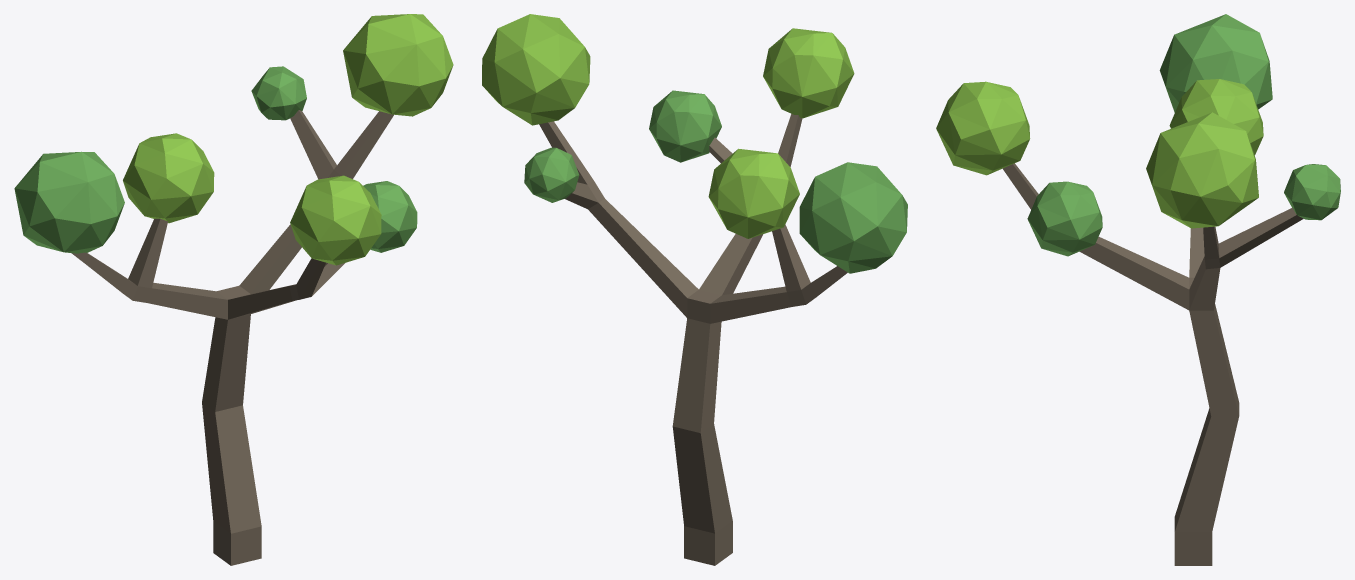
The model's file is tree3.fbx.
3 views of the same model, side by side, from view 1: azimuth 30°, elevation 25°; view 2: azimuth 150°, elevation 25°; view 3: azimuth 270°, elevation 25° (orthographic). The views are drawn at different scales.
Parts seen in each view (by area): view 1: Cube, Sphere_4, Sphere_3, Sphere, Sphere_2, Sphere_1, Sphere_5; view 2: Cube, Sphere_3, Sphere_4, Sphere, Sphere_2, Sphere_1, Sphere_5; view 3: Cube, Sphere_4, Sphere, Sphere_3, Sphere_1, Sphere_2, Sphere_5.
Part boxes in pixels (box(x1,y1,x2,y2)): Cube: box(71, 110, 393, 565); Sphere_4: box(343, 14, 453, 116); Sphere_3: box(14, 151, 124, 253); Sphere: box(290, 175, 381, 265); Sphere_2: box(123, 133, 214, 223); Sphere_1: box(363, 181, 417, 252); Sphere_5: box(251, 66, 306, 120); Cube: box(539, 114, 847, 565); Sphere_3: box(799, 162, 907, 273); Sphere_4: box(482, 14, 590, 125); Sphere: box(763, 28, 854, 118); Sphere_2: box(708, 148, 799, 238); Sphere_1: box(649, 90, 721, 162); Sphere_5: box(524, 147, 579, 202); Cube: box(1002, 163, 1303, 565); Sphere_4: box(1146, 112, 1258, 228); Sphere: box(936, 81, 1030, 175); Sphere_3: box(1159, 14, 1272, 112); Sphere_1: box(1027, 181, 1102, 256); Sphere_2: box(1169, 79, 1263, 155); Sphere_5: box(1284, 164, 1340, 220).
Size of the model in its own units: 2715 by 3095 by 2165.
